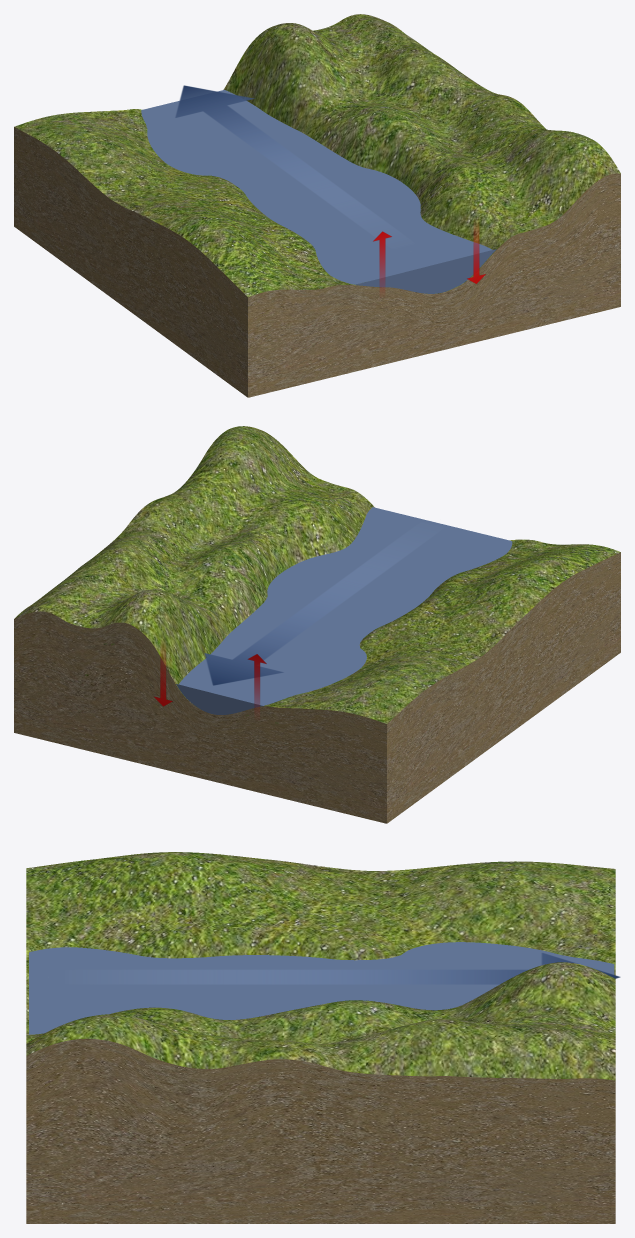
File: 河漫滩河谷.gltf
3 views of the same model, one above another, from view 1: azimuth 30°, elevation 25°; view 2: azimuth 150°, elevation 25°; view 3: azimuth 270°, elevation 25° (orthographic). The views are drawn at different scales.
Parts seen in each view (by area): view 1: node_Box002_-4064, node_Sea Example_-4062, node_Plane_-4070, node_001_-4066; view 2: node_Box002_-4064, node_Sea Example_-4062, node_Plane_-4070, node_003_-4068; view 3: node_Box002_-4064, node_Sea Example_-4062, node_Plane_-4070.
Part boxes in pixels (x1,y1,x2,y2): node_Box002_-4064: [14, 14, 620, 397]; node_Sea Example_-4062: [141, 89, 492, 284]; node_Plane_-4070: [175, 85, 386, 228]; node_001_-4066: [355, 249, 496, 293]; node_Box002_-4064: [14, 426, 620, 823]; node_Sea Example_-4062: [179, 507, 512, 705]; node_Plane_-4070: [204, 542, 415, 685]; node_003_-4068: [176, 684, 263, 714]; node_Box002_-4064: [26, 852, 615, 1223]; node_Sea Example_-4062: [29, 942, 614, 1034]; node_Plane_-4070: [134, 953, 620, 984].
Size of the model in its own units: 1335 by 529 by 1493.
